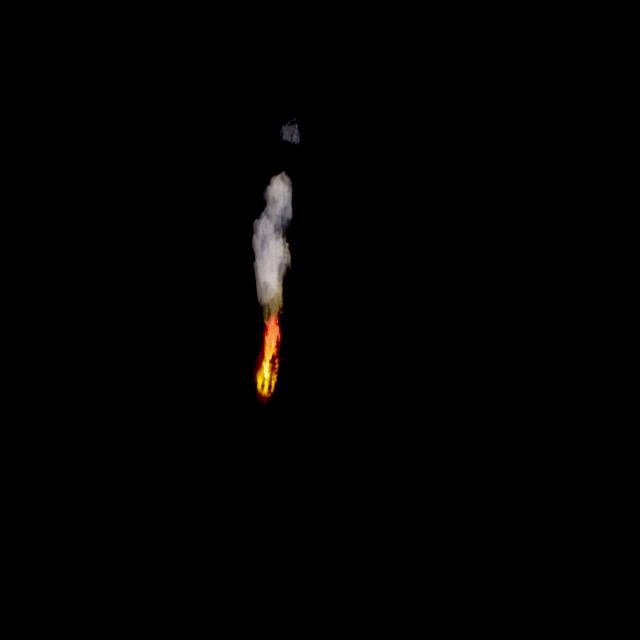fire: (251, 313, 285, 401)
smoke: (242, 162, 306, 314)
